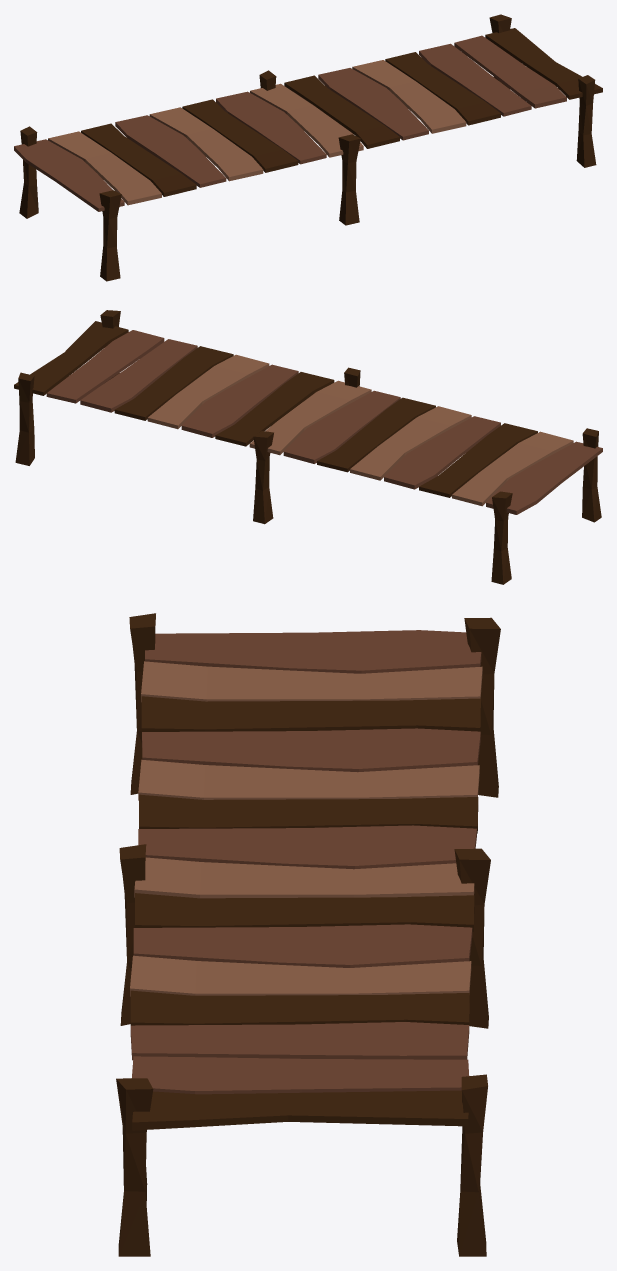
Rendered from LongDeck.fbx.
The picture shows the model from 3 angles, top to bottom: view 1: azimuth 30°, elevation 25°; view 2: azimuth 150°, elevation 25°; view 3: azimuth 270°, elevation 25°; orthographic projection. The views are drawn at different scales.
Parts seen in each view (by area): view 1: LongDeck; view 2: LongDeck; view 3: LongDeck.
Part boxes in pixels (x1=…): LongDeck: x1=14, y1=14, x2=602, y2=281; LongDeck: x1=14, y1=310, x2=602, y2=584; LongDeck: x1=116, y1=613, x2=500, y2=1256.
Size of the model in its own units: 6560 by 1041 by 2165.
